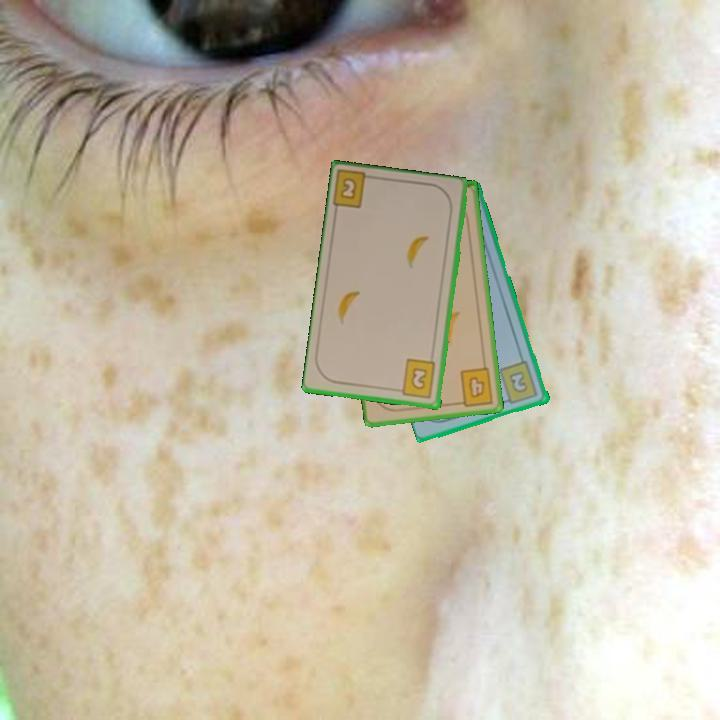2b: (496, 358, 541, 407), (331, 169, 380, 212), (393, 356, 439, 401)
4b: (453, 364, 496, 409)
